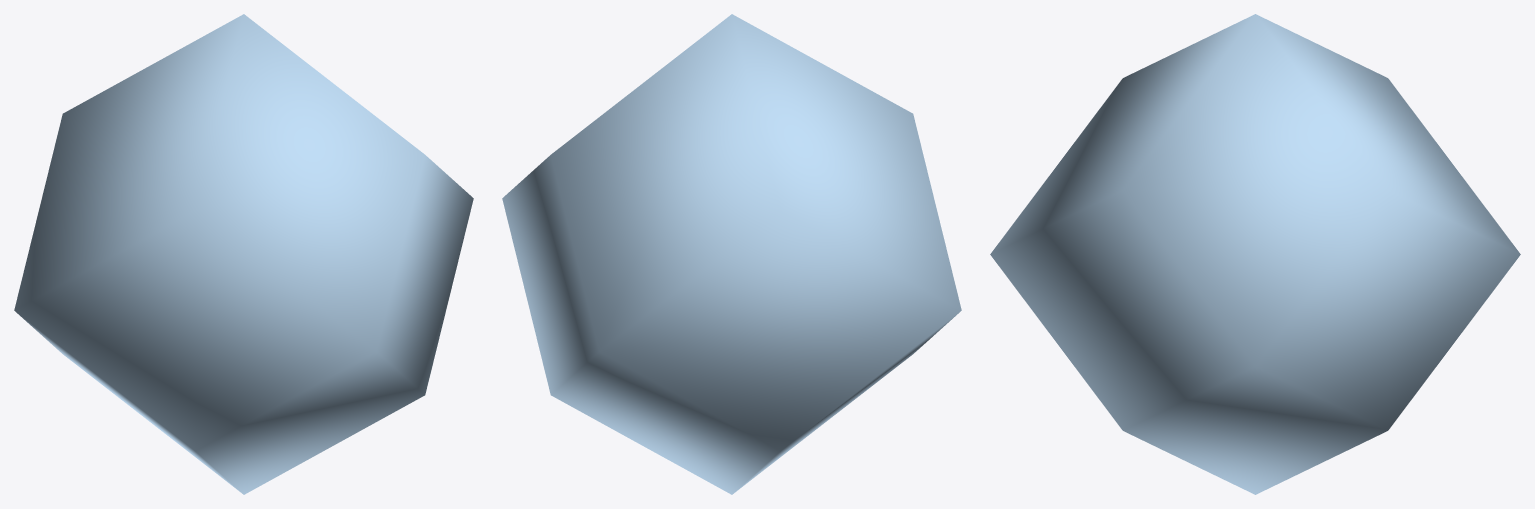
Rendered from spessartine.glb.
3 views of the same model, side by side, from view 1: azimuth 30°, elevation 25°; view 2: azimuth 150°, elevation 25°; view 3: azimuth 270°, elevation 25° (orthographic).
Parts seen in each view (by area): view 1: spessartine; view 2: spessartine; view 3: spessartine.
Boxes of the visible parts, x1=… form: spessartine: x1=14, y1=14, x2=473, y2=494; spessartine: x1=502, y1=14, x2=961, y2=494; spessartine: x1=990, y1=14, x2=1520, y2=494.
Bounding box in the file's own units: 1.7 × 1.7 × 1.7.
